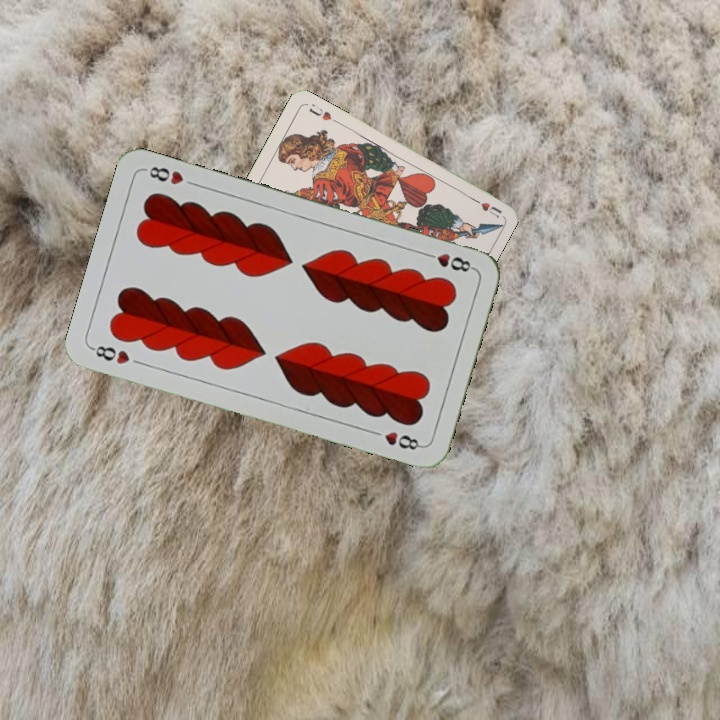H8: (418, 248, 476, 275), (88, 341, 132, 367)
HU: (467, 193, 504, 220)
